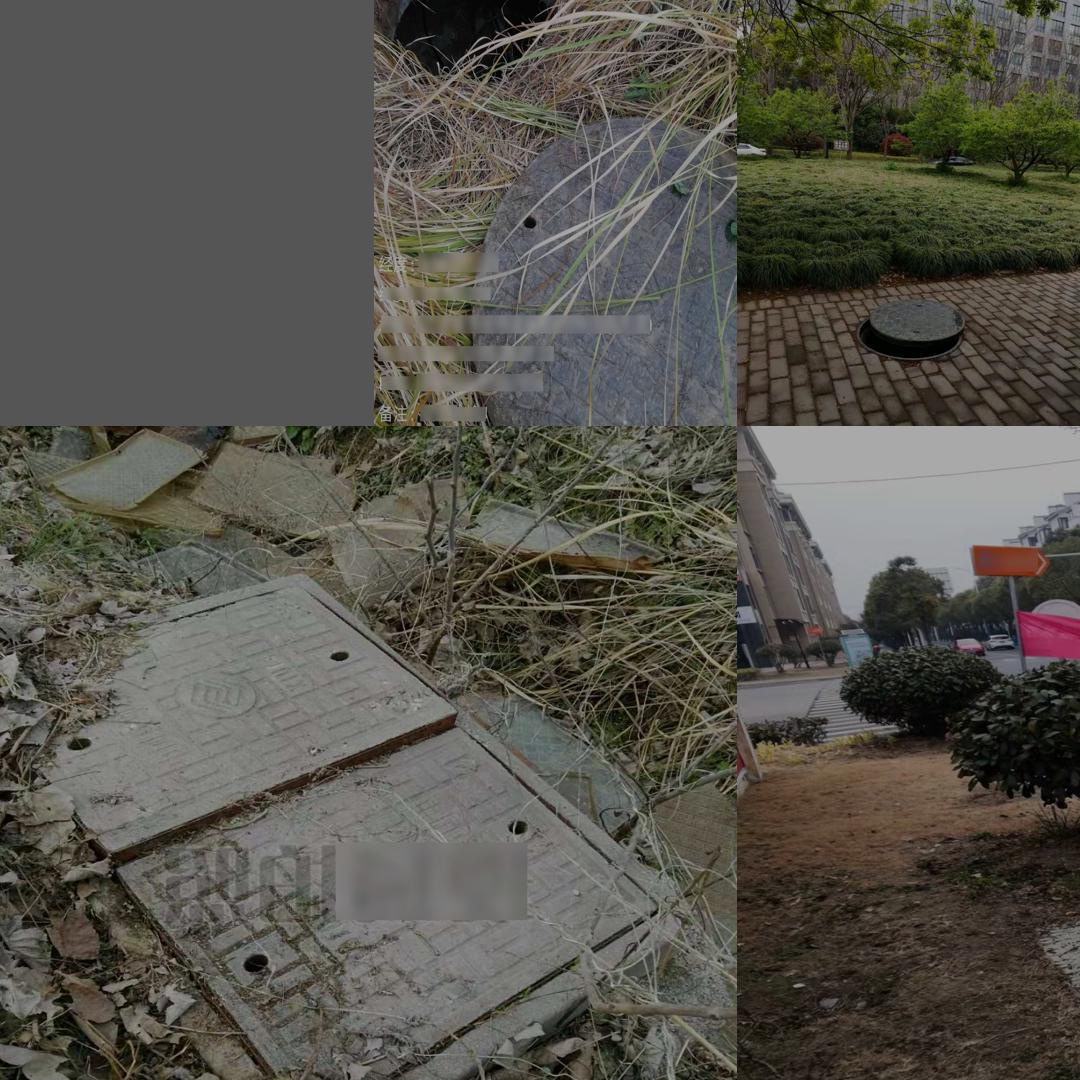uncovered: (0, 568, 688, 1080), (376, 0, 588, 119), (849, 290, 975, 371), (1040, 868, 1080, 1012)
